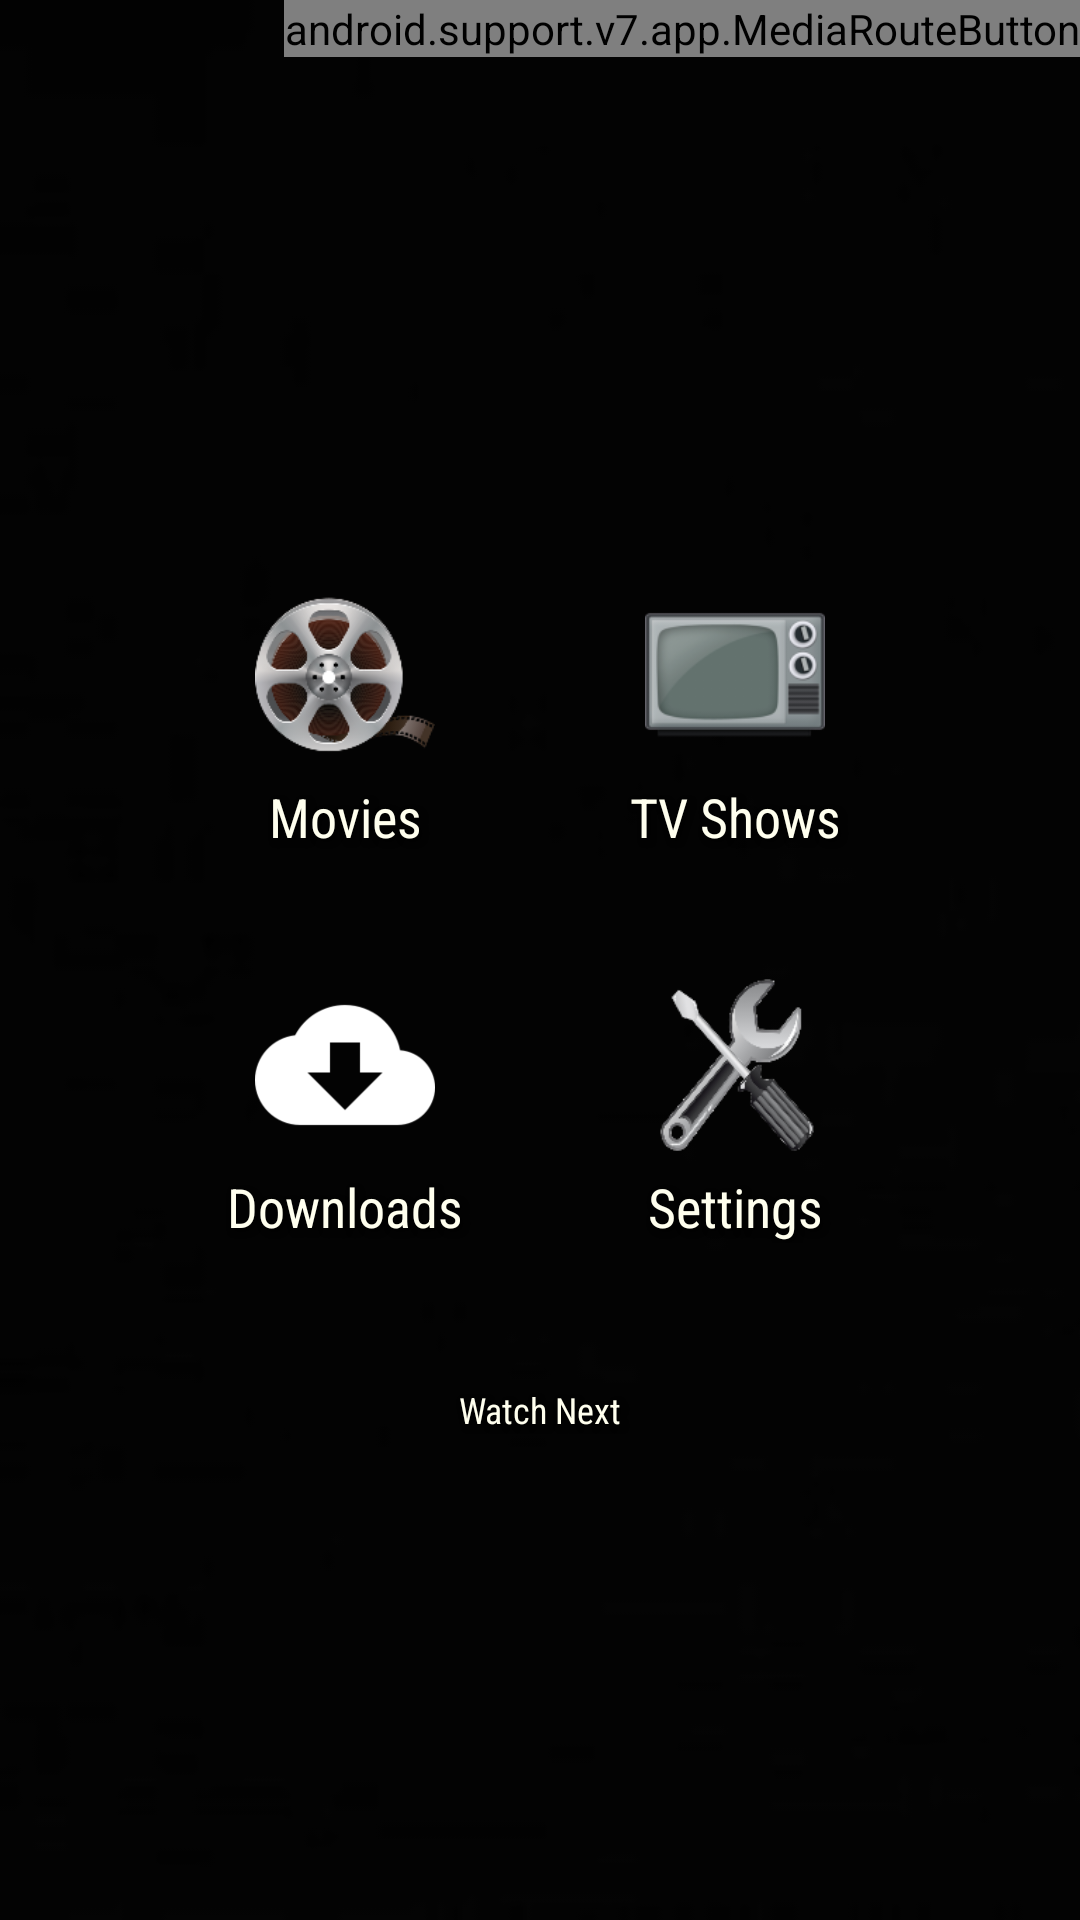

Where icons sit on this 1080w x 1920h app screen, as (x1, y1, x2, y2):
tools: (660, 979, 814, 1151)
